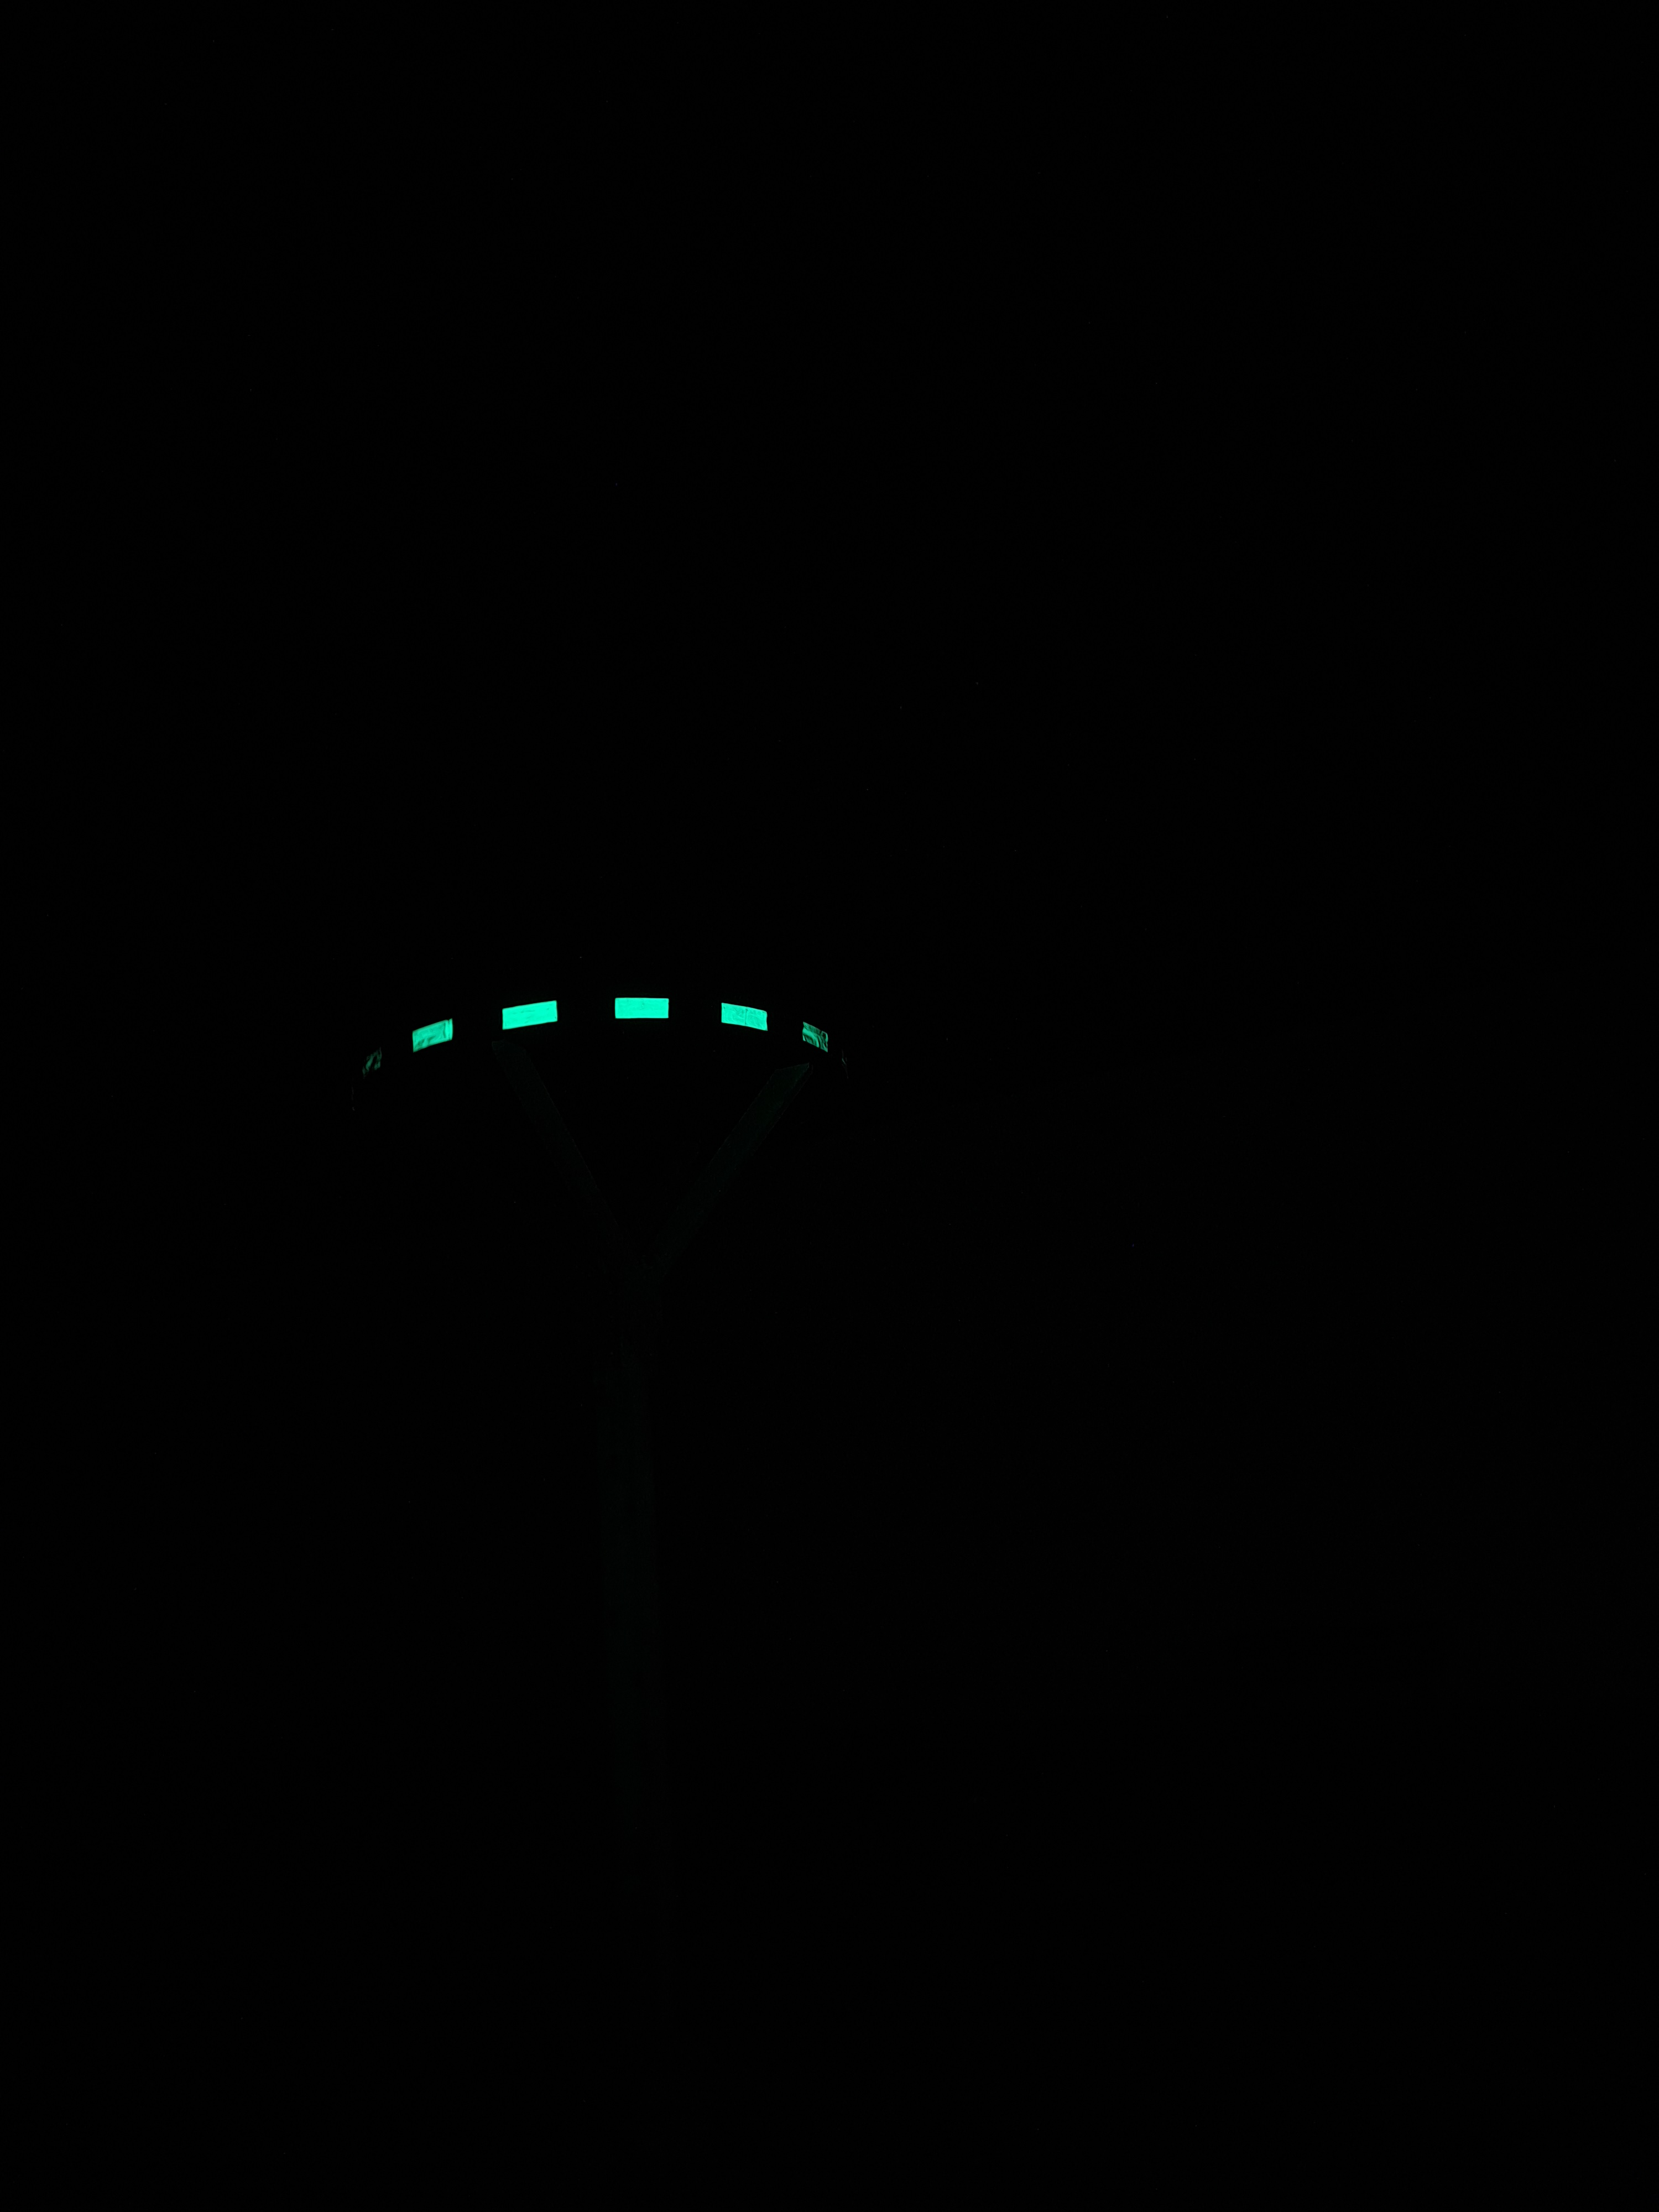hoop: (350, 989, 852, 1083)
